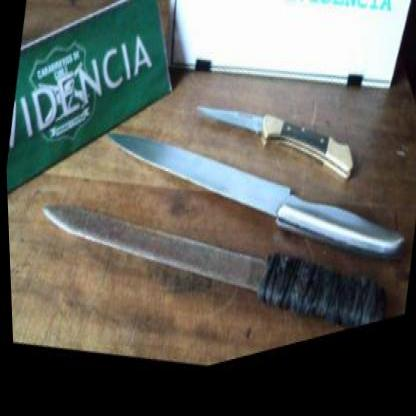knife: (22, 144, 270, 368), (90, 92, 296, 284), (186, 90, 274, 177)
